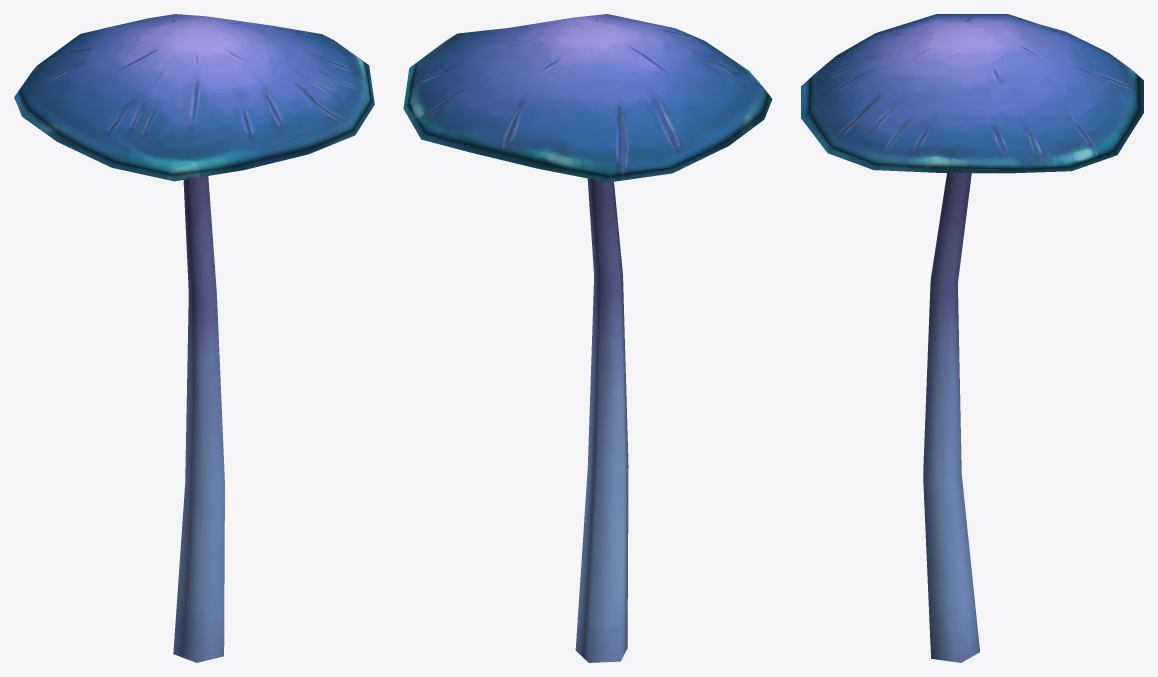
The model's file is bluemushroom.fbx.
The picture shows the model from 3 angles, left to right: view 1: azimuth 30°, elevation 25°; view 2: azimuth 150°, elevation 25°; view 3: azimuth 270°, elevation 25°; orthographic projection. The views are drawn at different scales.
Parts seen in each view (by area): view 1: polySurface9, polySurface7; view 2: polySurface9, polySurface7; view 3: polySurface9, polySurface7.
Part boxes in pixels (bbox=[...]): polySurface9: bbox=[14, 14, 374, 181]; polySurface7: bbox=[173, 176, 224, 662]; polySurface9: bbox=[403, 14, 772, 182]; polySurface7: bbox=[575, 178, 628, 662]; polySurface9: bbox=[801, 14, 1143, 173]; polySurface7: bbox=[923, 173, 979, 662].
Size of the model in its own units: 4.41 by 8.19 by 4.14.
2 materials, 2 textured.
